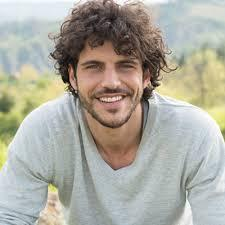normalEye: (75, 54, 143, 75)
normalMouth: (86, 89, 132, 108)
